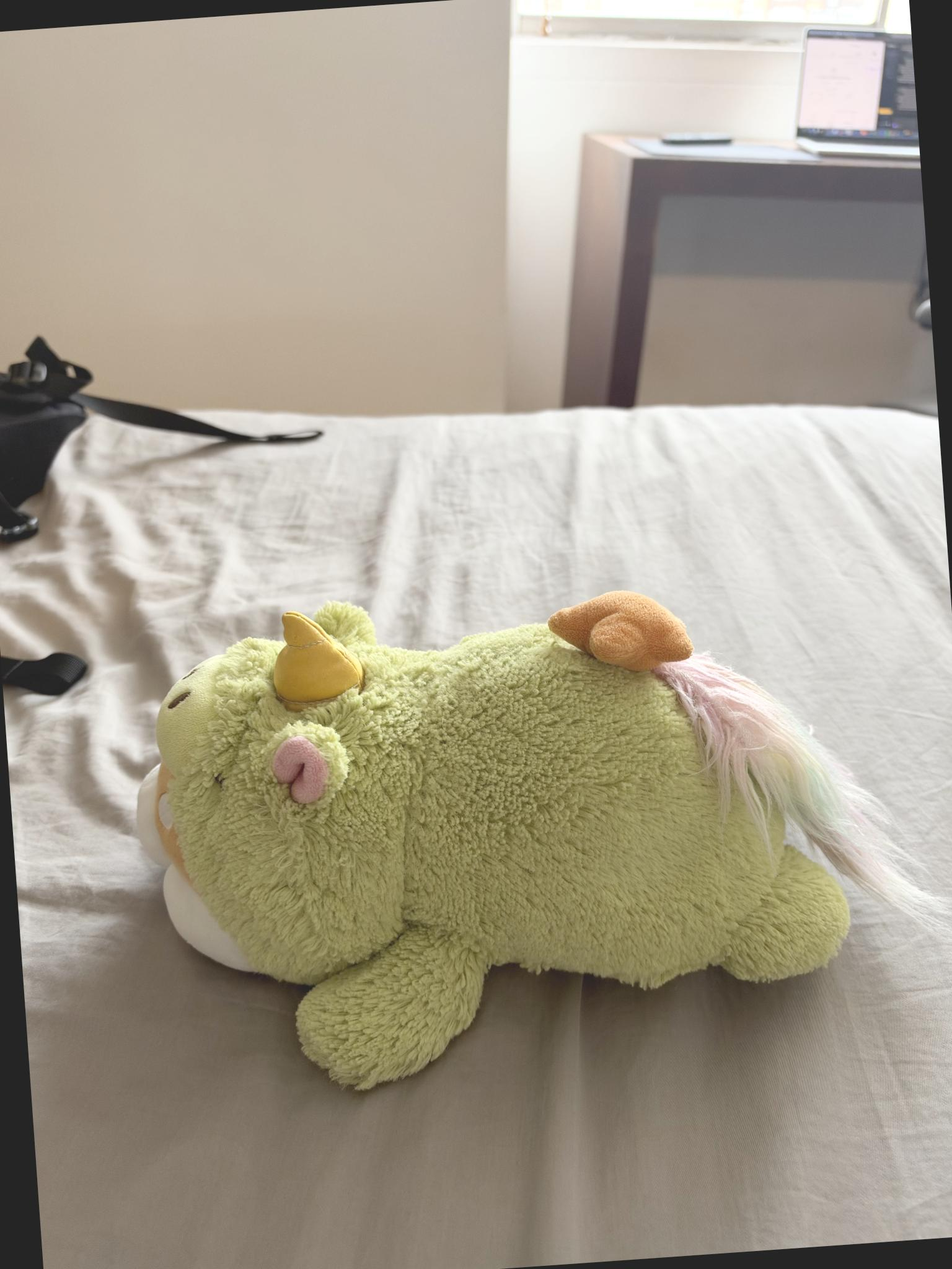peluche_martin: (118, 556, 945, 1110)
